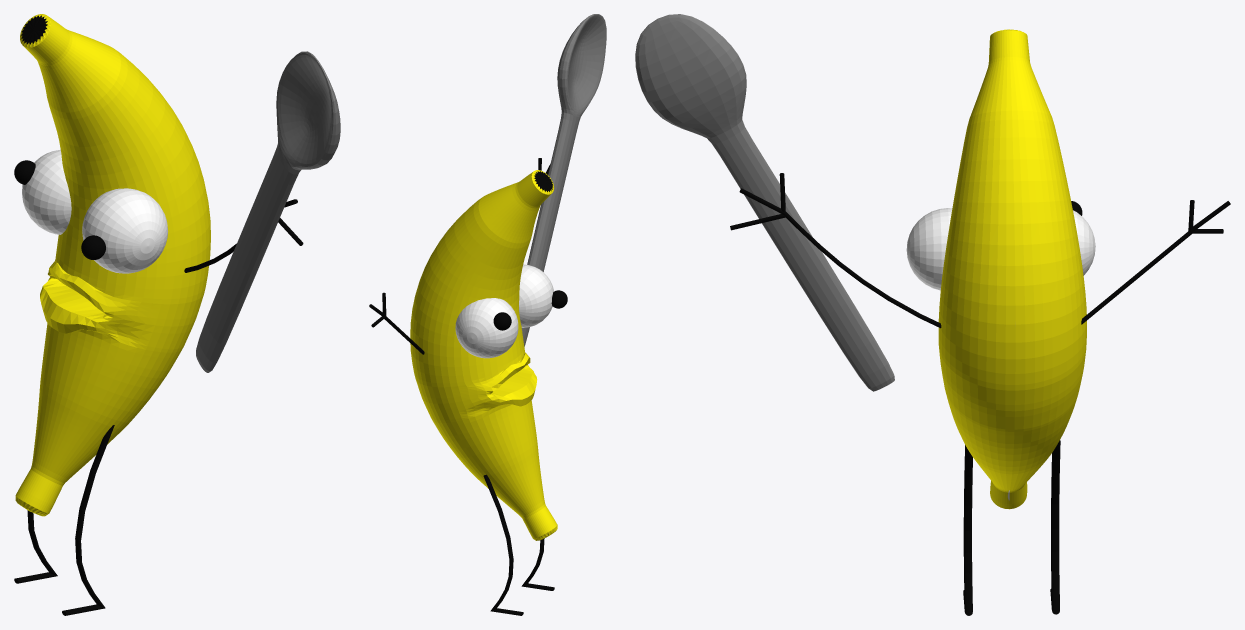
File: bananaMan4.obj
The picture shows the model from 3 angles, left to right: view 1: azimuth 30°, elevation 25°; view 2: azimuth 150°, elevation 25°; view 3: azimuth 270°, elevation 25°; orthographic projection. The views are drawn at different scales.
Parts seen in each view (by area): view 1: Loft01, Box01, Sphere01, Sphere02, Line07, Line02, Line04, Sphere04; view 2: Loft01, Box01, Sphere02, Sphere01, Line02, Line06, Line07; view 3: Loft01, Box01, Sphere01, Line04, Line02, Line07, Line06, Sphere02.
Part boxes in pixels (box(x1,y1,x2,y2)): Loft01: box(15, 14, 210, 516); Box01: box(196, 51, 340, 372); Sphere01: box(82, 188, 168, 273); Sphere02: box(22, 149, 71, 234); Line07: box(62, 425, 114, 615); Line02: box(14, 510, 57, 583); Line04: box(184, 199, 303, 272); Sphere04: box(81, 235, 105, 259); Loft01: box(410, 170, 557, 540); Box01: box(521, 14, 606, 346); Sphere02: box(455, 298, 518, 358); Sphere01: box(519, 264, 553, 327); Line02: box(483, 474, 523, 615); Line06: box(369, 292, 424, 354); Line07: box(521, 538, 554, 590); Loft01: box(938, 29, 1086, 509); Box01: box(635, 14, 894, 391); Sphere01: box(906, 208, 952, 290); Line04: box(730, 173, 941, 328); Line02: box(1050, 440, 1060, 614); Line07: box(963, 445, 972, 615); Line06: box(1081, 200, 1230, 324); Sphere02: box(1073, 210, 1095, 275).
Size of the model in its own units: 0.873 by 2.93 by 2.51.
